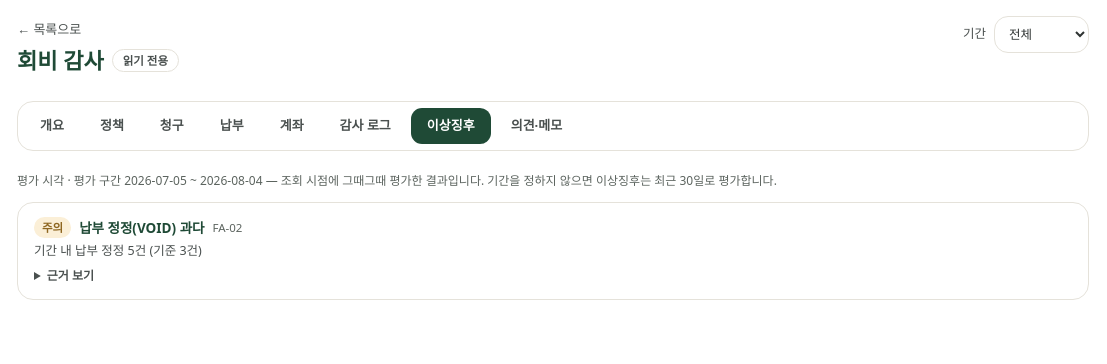
Scenario: 관리자 회비 이상징후 탭 › 근거 보기를 열면 evidence 키·값이 한국어 라벨로 드러난다
Click the heading "근거 보기". click: click(70, 276)
box: [47,267,94,284]
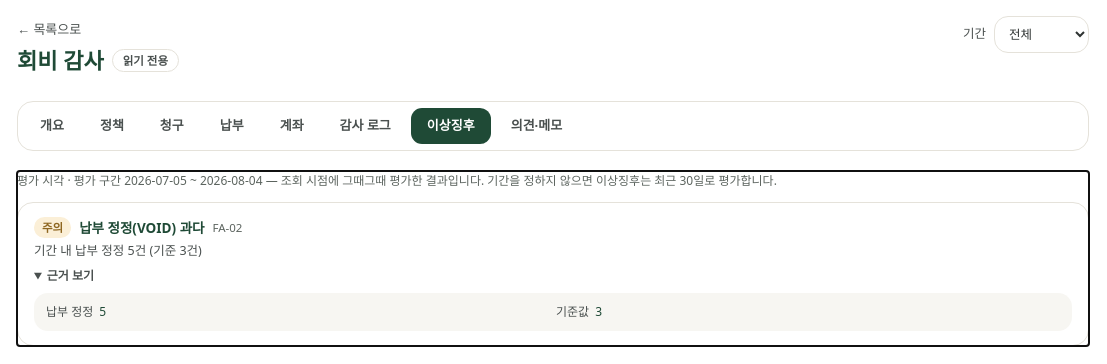
Check: the text "납부 정정" is shown, box [46,303,93,321]
Check: the text "기준값" is shown, box [556,303,589,321]
Check: the text "5" is shown, box [99,303,106,321]
